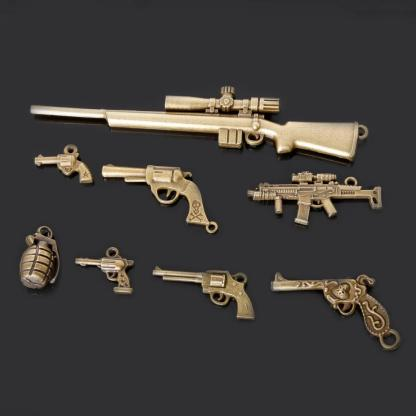Grenade: (17, 224, 62, 291)
Gun: (30, 84, 370, 166), (247, 170, 384, 226)
Pistol: (270, 268, 402, 352), (101, 163, 220, 233), (152, 263, 256, 322), (75, 246, 138, 298), (31, 143, 93, 185)
